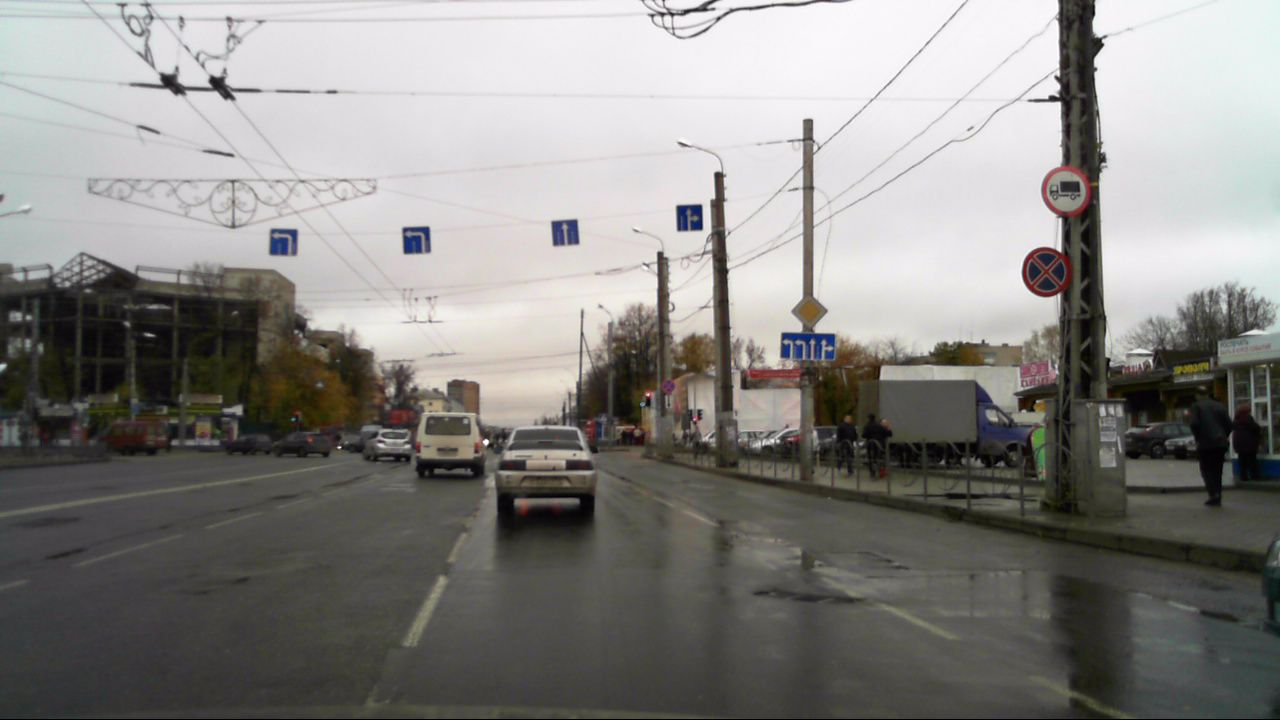No Parking: (1021, 246, 1070, 297)
